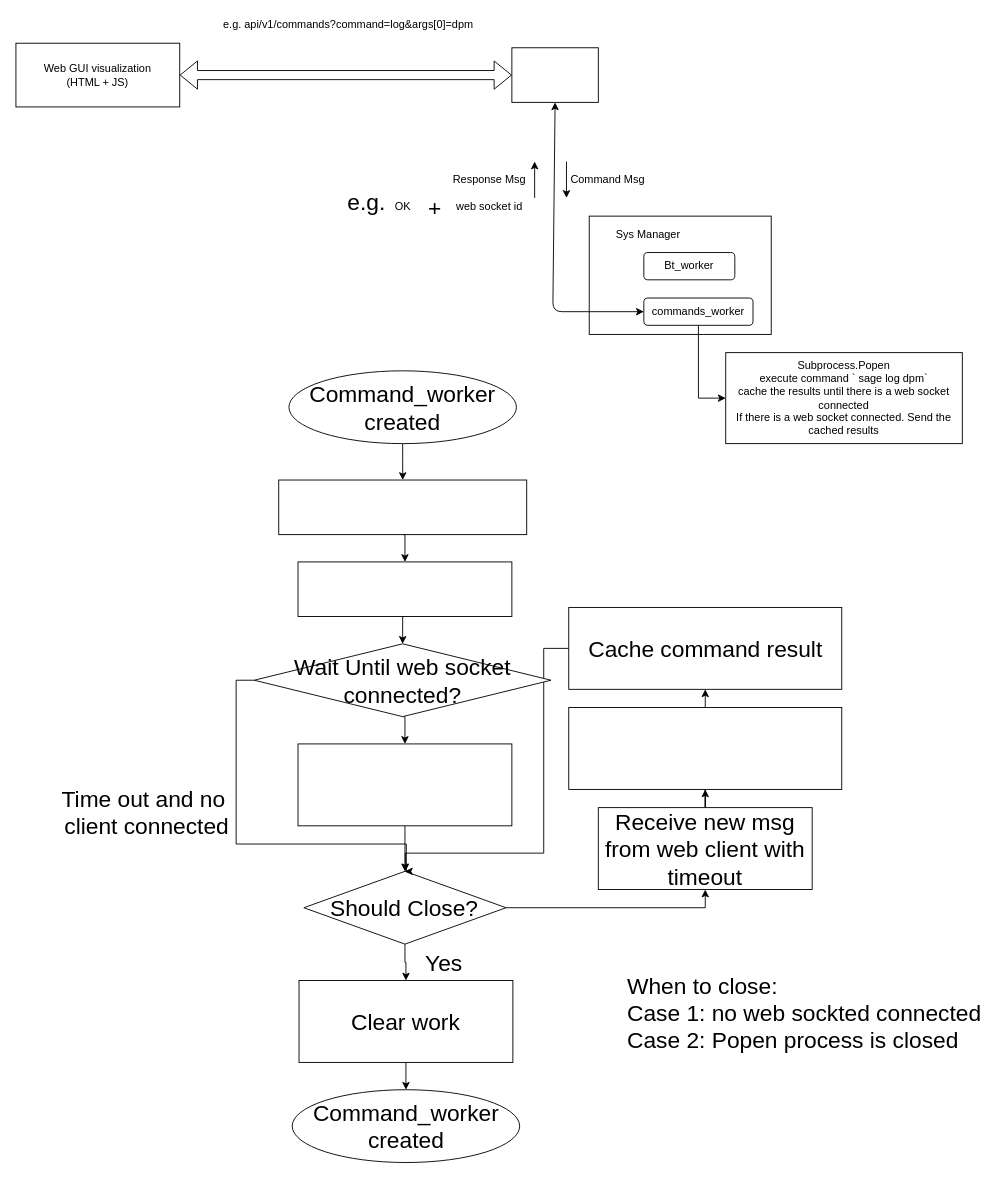
The diagram is 1006 pixels wide and 1178 high, and some of its shapes have lost their labels. Here are the shapes that lost their labels. From the top down, the box of each, then its label:
(511, 47, 598, 102): Web API
(278, 479, 527, 535): Execute command with Subprocess.Popen
(297, 561, 512, 617): Cache command results
(568, 707, 842, 789): Interact with prvious command (do nothing if no new msg)
(297, 743, 512, 826): Send buffered results through web socket
